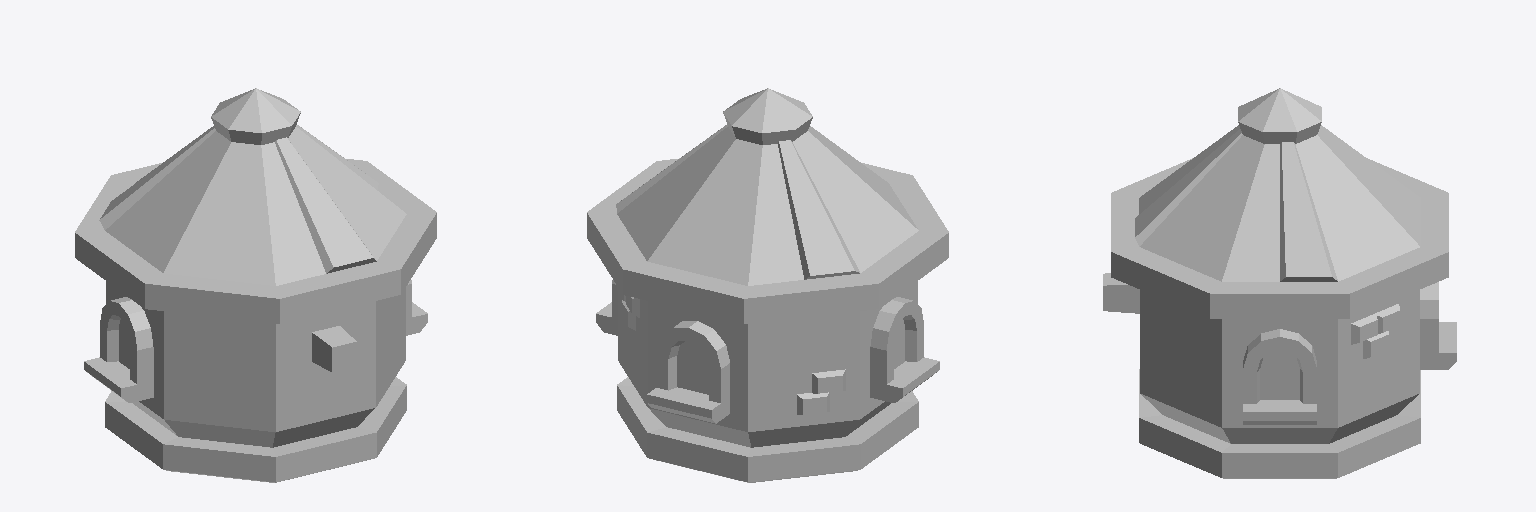
The model's file is building_windmill_red_building_windmill_top_red.obj.
3 views of the same model, side by side, from view 1: azimuth 30°, elevation 25°; view 2: azimuth 150°, elevation 25°; view 3: azimuth 270°, elevation 25° (orthographic).
Parts seen in each view (by area): view 1: building_windmill_top_red; view 2: building_windmill_top_red; view 3: building_windmill_top_red.
Boxes of the visible parts, x1,y1,x2,y2 form: building_windmill_top_red: [75, 88, 436, 482]; building_windmill_top_red: [587, 88, 948, 482]; building_windmill_top_red: [1103, 88, 1456, 478].
Bounding box in the file's own units: 0.664 × 0.6938 × 0.6641.